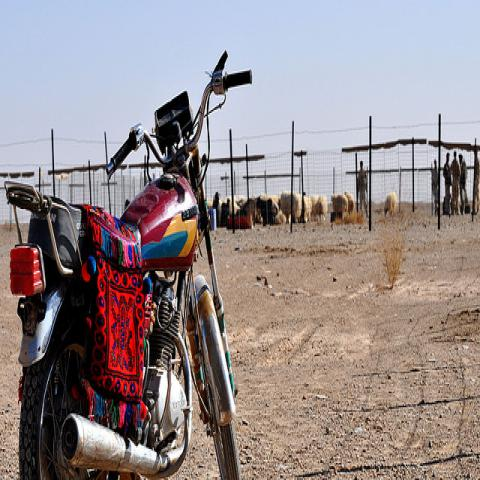motorcycle: (3, 87, 240, 478)
